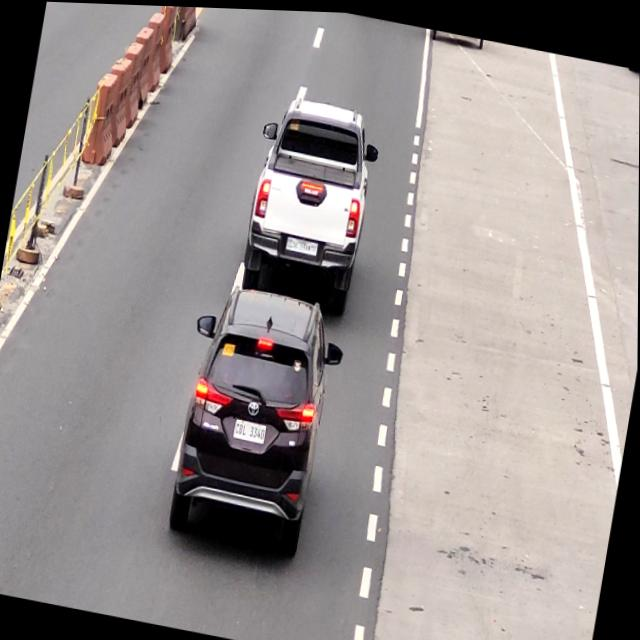Car: (173, 282, 338, 557), (237, 91, 383, 312)
License-Plate: (231, 416, 270, 444), (283, 231, 320, 256)
